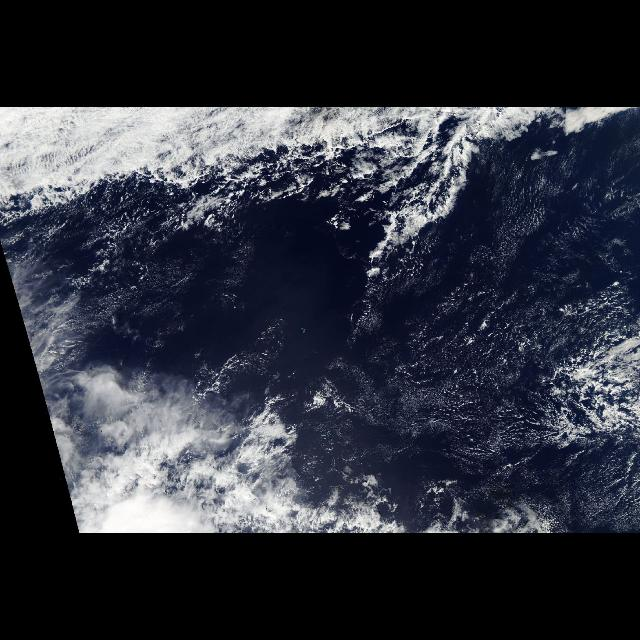Gravel: (424, 206, 640, 439)
Sugar: (380, 226, 566, 504)
